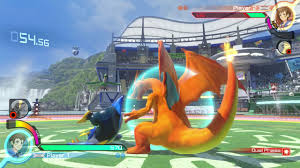charizard: (127, 41, 248, 156)
